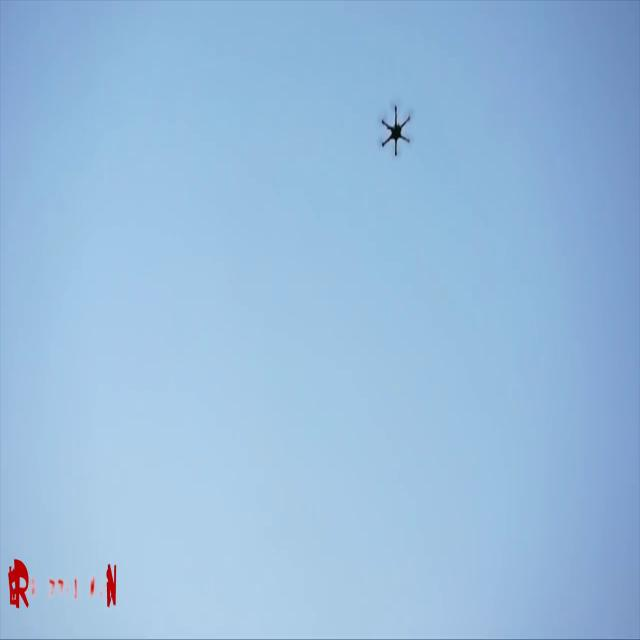drone: (374, 98, 421, 161)
